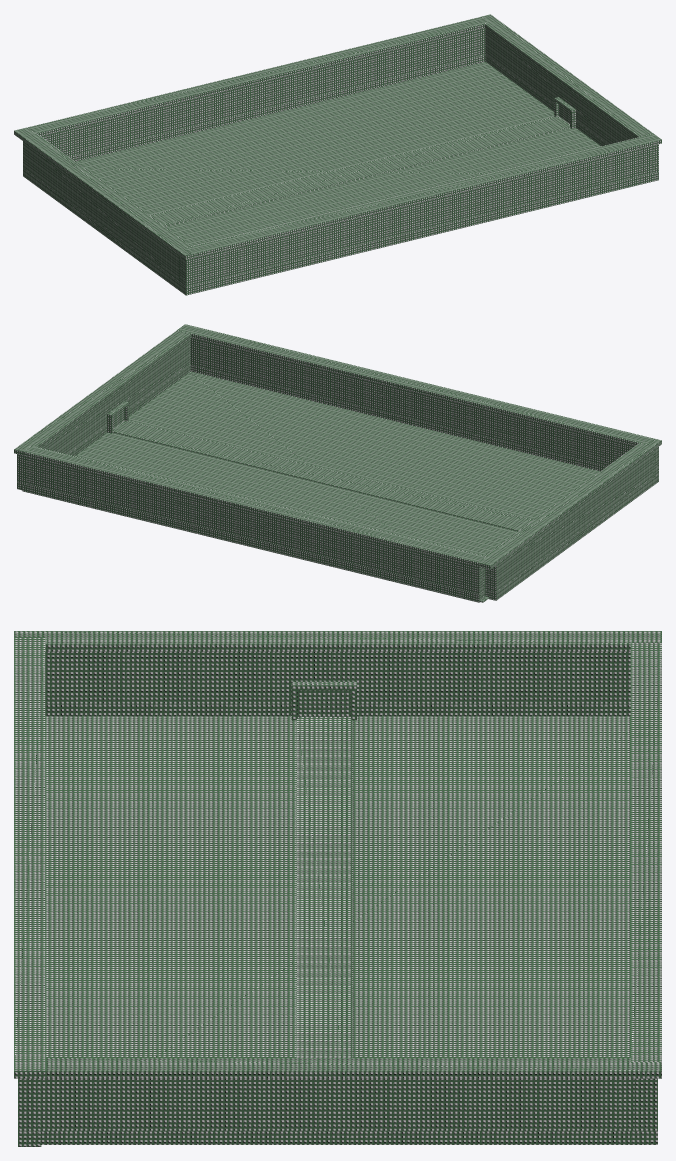
The model's file is map.glb.
3 renders of one model, top to bottom at view 1: azimuth 30°, elevation 25°; view 2: azimuth 150°, elevation 25°; view 3: azimuth 270°, elevation 25°, orthographic. The views are drawn at different scales.
Parts seen in each view (by area): view 1: map; view 2: map; view 3: map.
Boxes of the visible parts, left/top/right/bottom form: map: left=14, top=14, right=661, bottom=295; map: left=14, top=324, right=661, bottom=602; map: left=14, top=631, right=661, bottom=1146.
Bounding box in the file's own units: 445 × 36.37 × 277.
8 materials, 8 textured.
